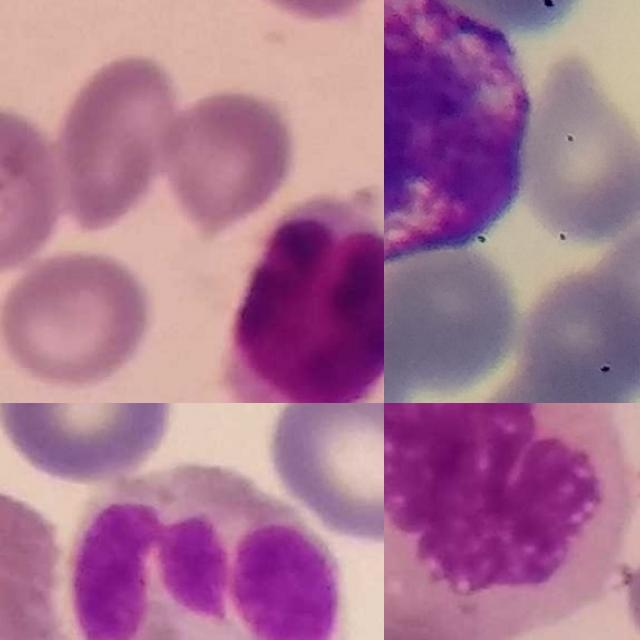Basophil: (384, 0, 535, 265)
Eosinophil: (61, 466, 343, 640)
Lymphocyte: (225, 192, 384, 403)
Monocyte: (384, 403, 634, 627)
